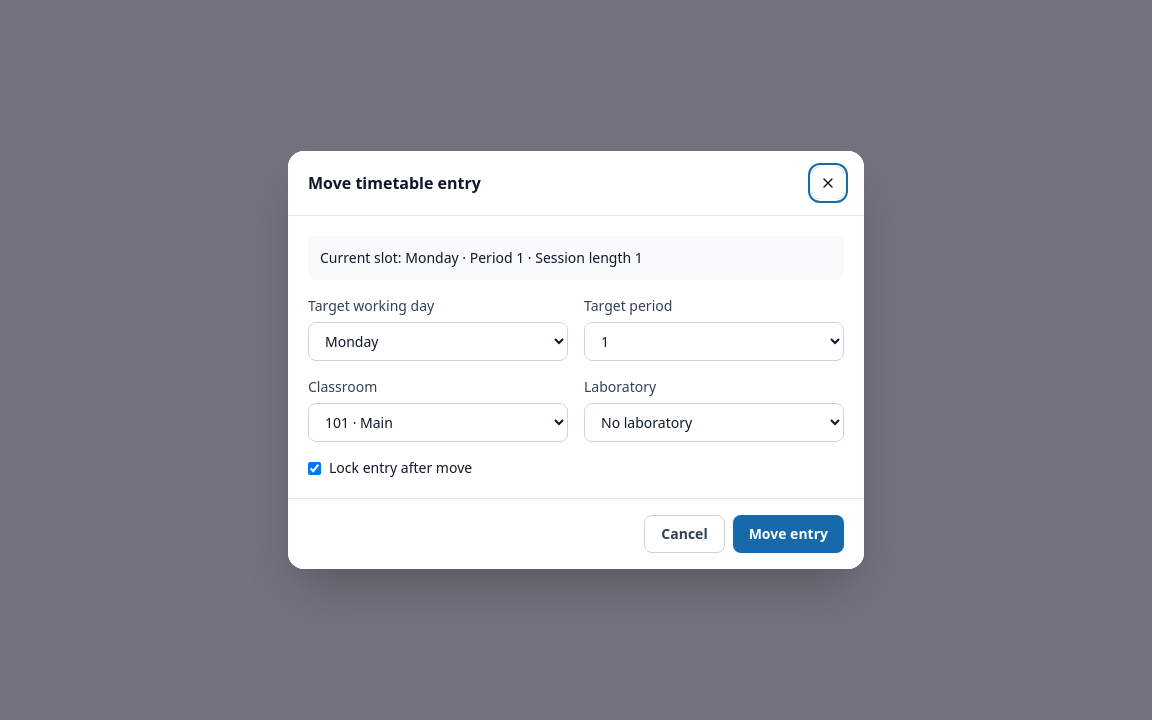
Scenario: Entry operational actions › shows the backend move conflict verbatim
This screenshot has width=1152, height=720.
Click the button "Move entry": (788, 534) [733,515,844,553]
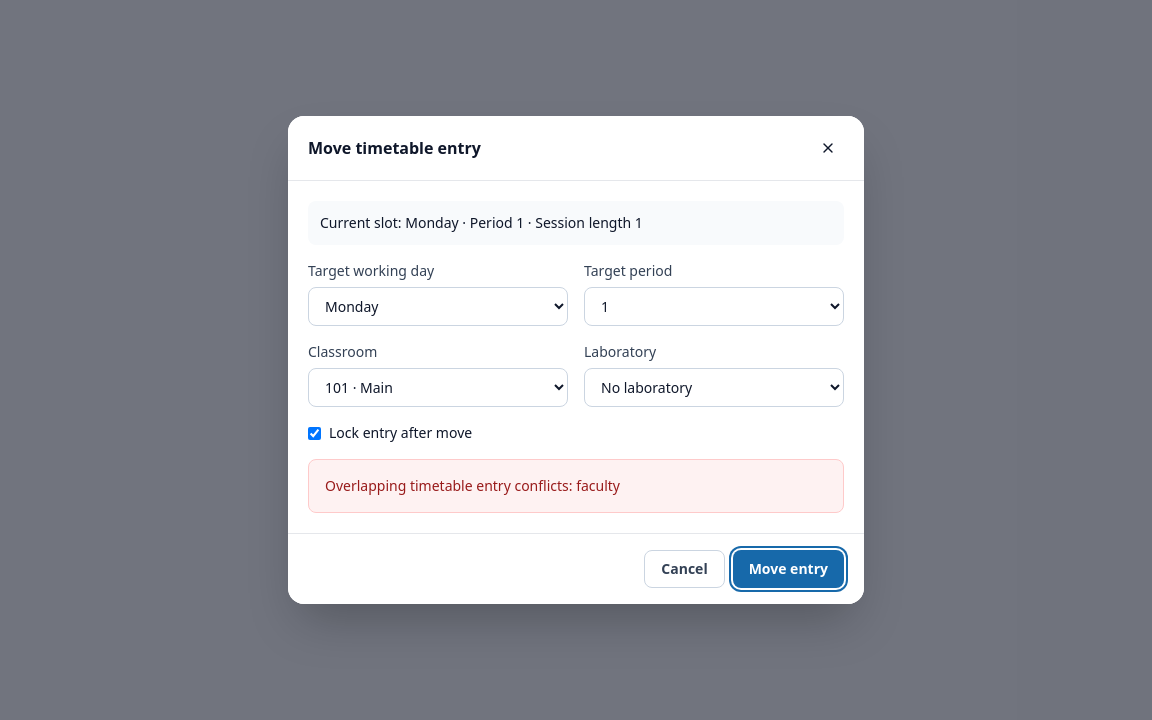
Now the text "Overlapping timetable entry conflicts: faculty" is shown, box [325,476,620,495]
